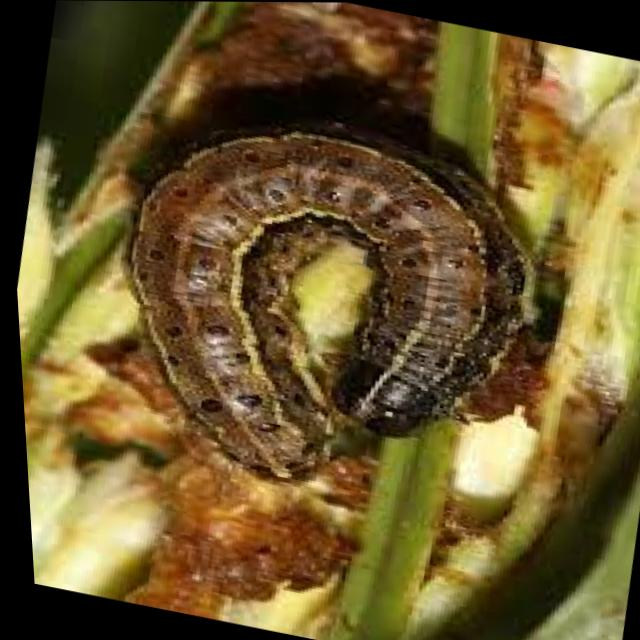Fall-Armyworm: (63, 96, 579, 545)
